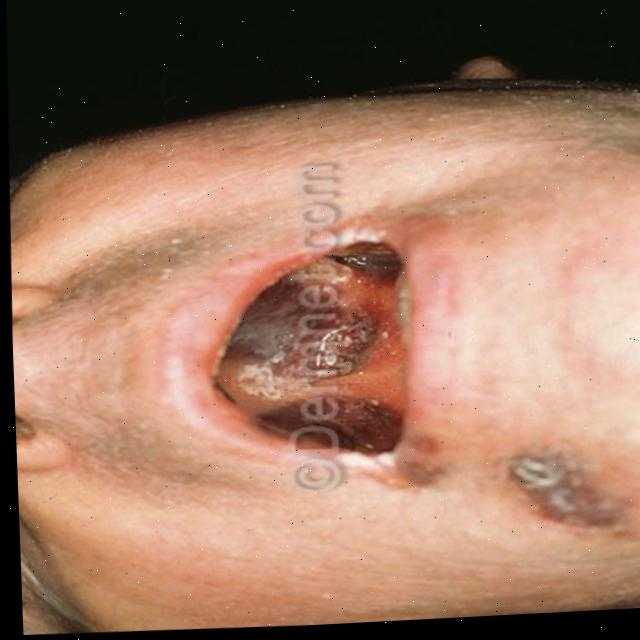Shingles: (219, 236, 446, 502), (502, 442, 637, 543)
